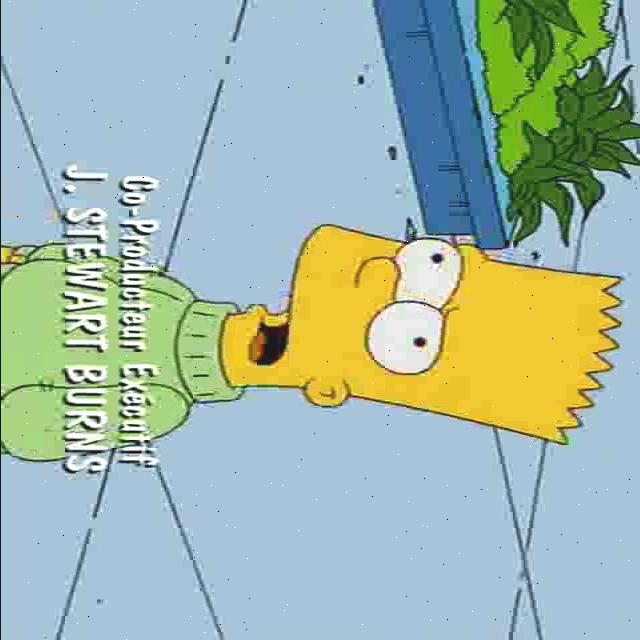Bart Simpson: (218, 222, 626, 448)
